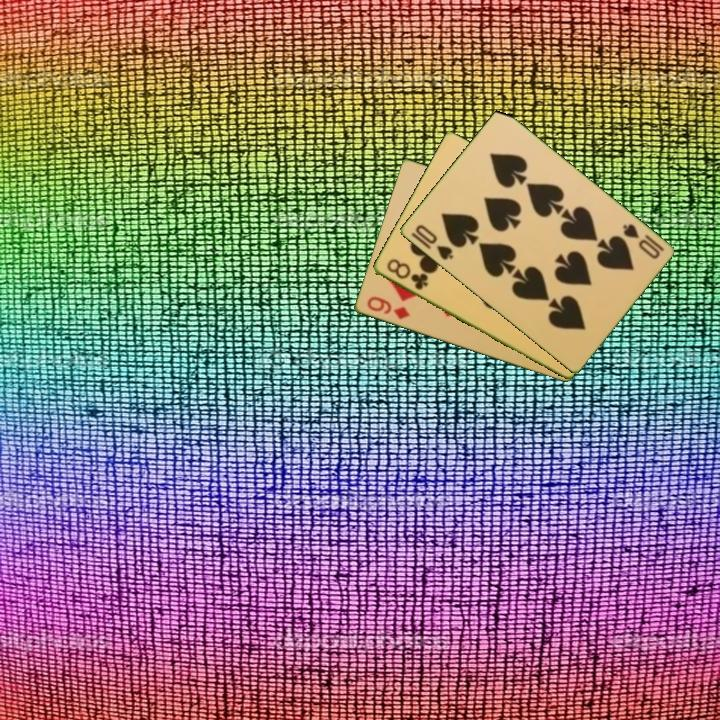10s: (618, 220, 667, 262), (411, 221, 456, 263)
8c: (383, 255, 431, 293)
9d: (363, 293, 412, 323)
